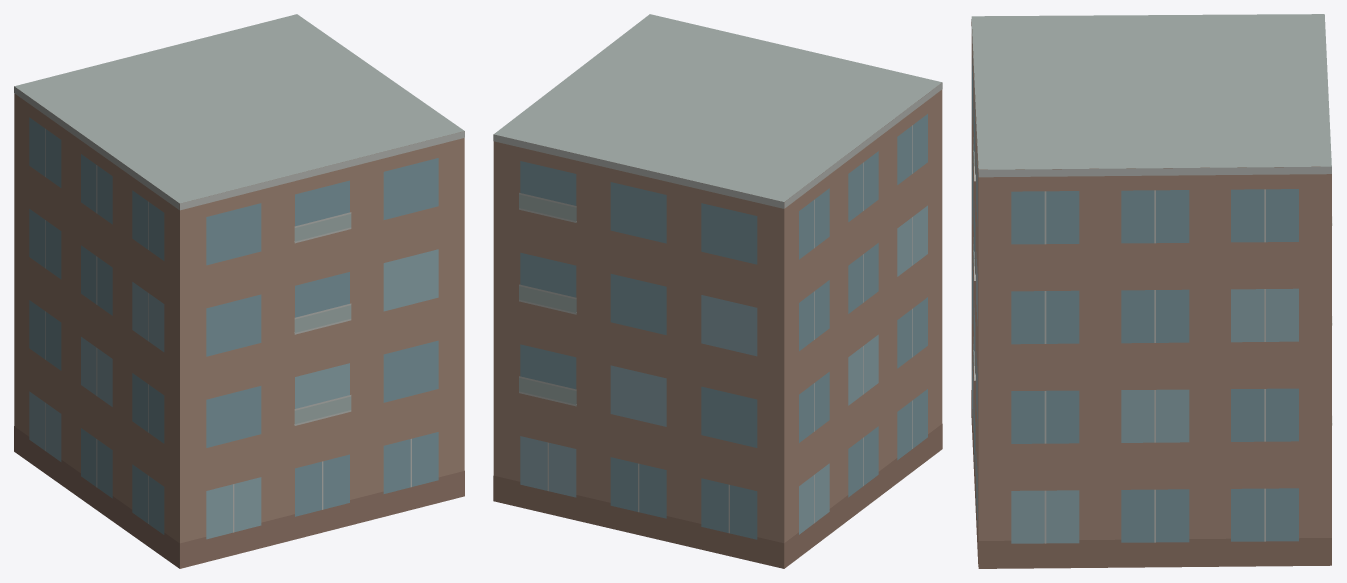
The model's file is survey-upis-32579453.glb.
3 views of the same model, side by side, from view 1: azimuth 30°, elevation 25°; view 2: azimuth 150°, elevation 25°; view 3: azimuth 270°, elevation 25° (orthographic). The views are drawn at different scales.
Parts seen in each view (by area): view 1: survey-upis-32579453.tmp; view 2: survey-upis-32579453.tmp; view 3: survey-upis-32579453.tmp.
Boxes of the visible parts, left/top/right/bottom form: survey-upis-32579453.tmp: left=14, top=14, right=464, bottom=568; survey-upis-32579453.tmp: left=493, top=14, right=942, bottom=568; survey-upis-32579453.tmp: left=971, top=14, right=1332, bottom=568.
Bounding box in the file's own units: 10.87 × 12.97 × 10.64.
